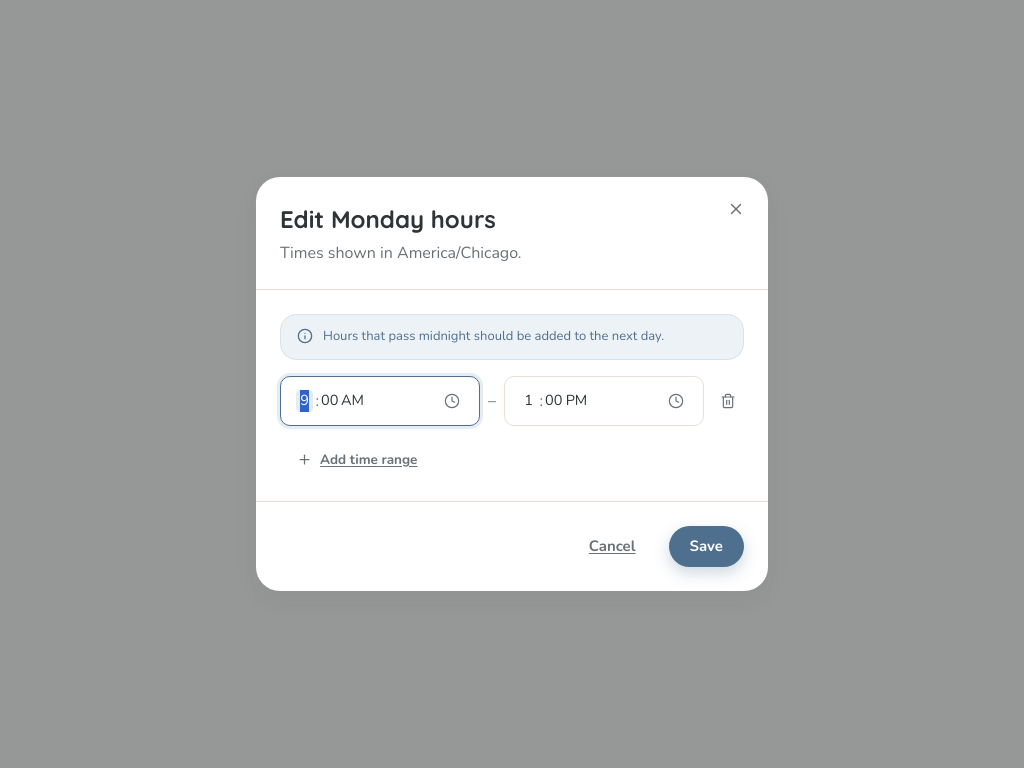
DayHoursModal — add / remove ranges › adding a range renders a second group
Click the button "Add time range".
click(357, 459)  # box left=280, top=442, right=434, bottom=477
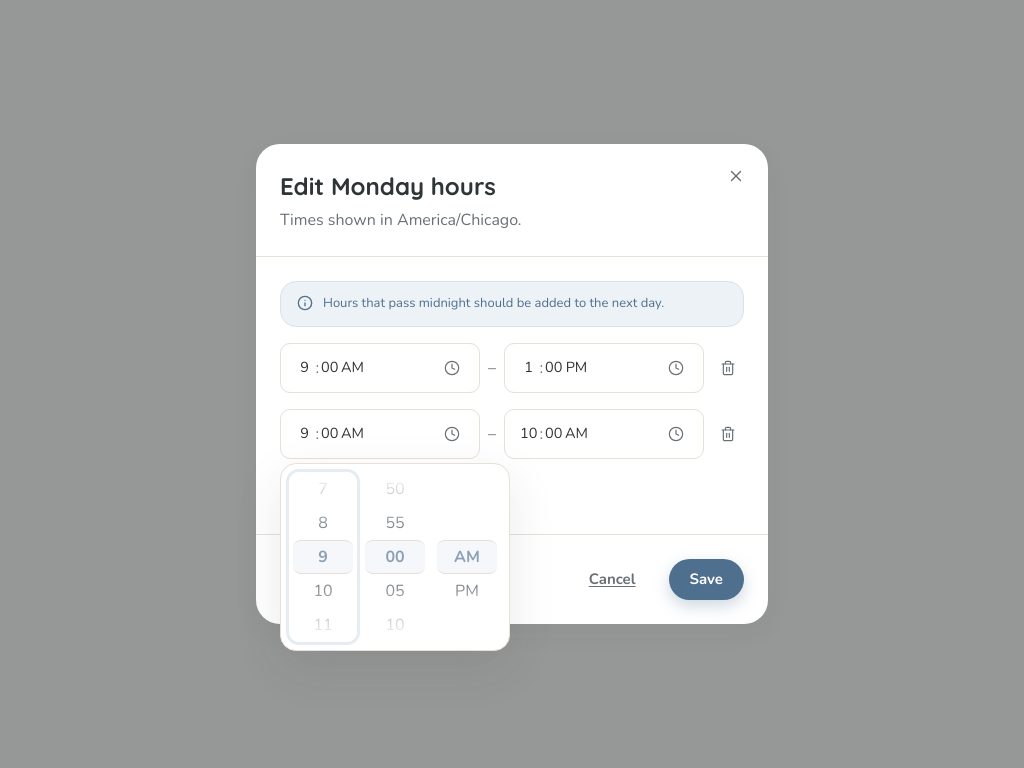
Check: the element named "Range 2" is shown, box left=280, top=409, right=744, bottom=459
